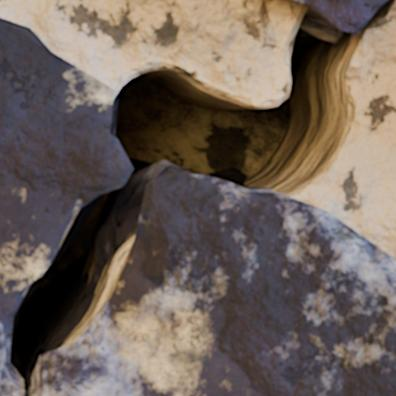brick: (297, 0, 384, 32)
broken_brick: (34, 174, 395, 395), (0, 16, 131, 395)
crack: (2, 0, 393, 395)
